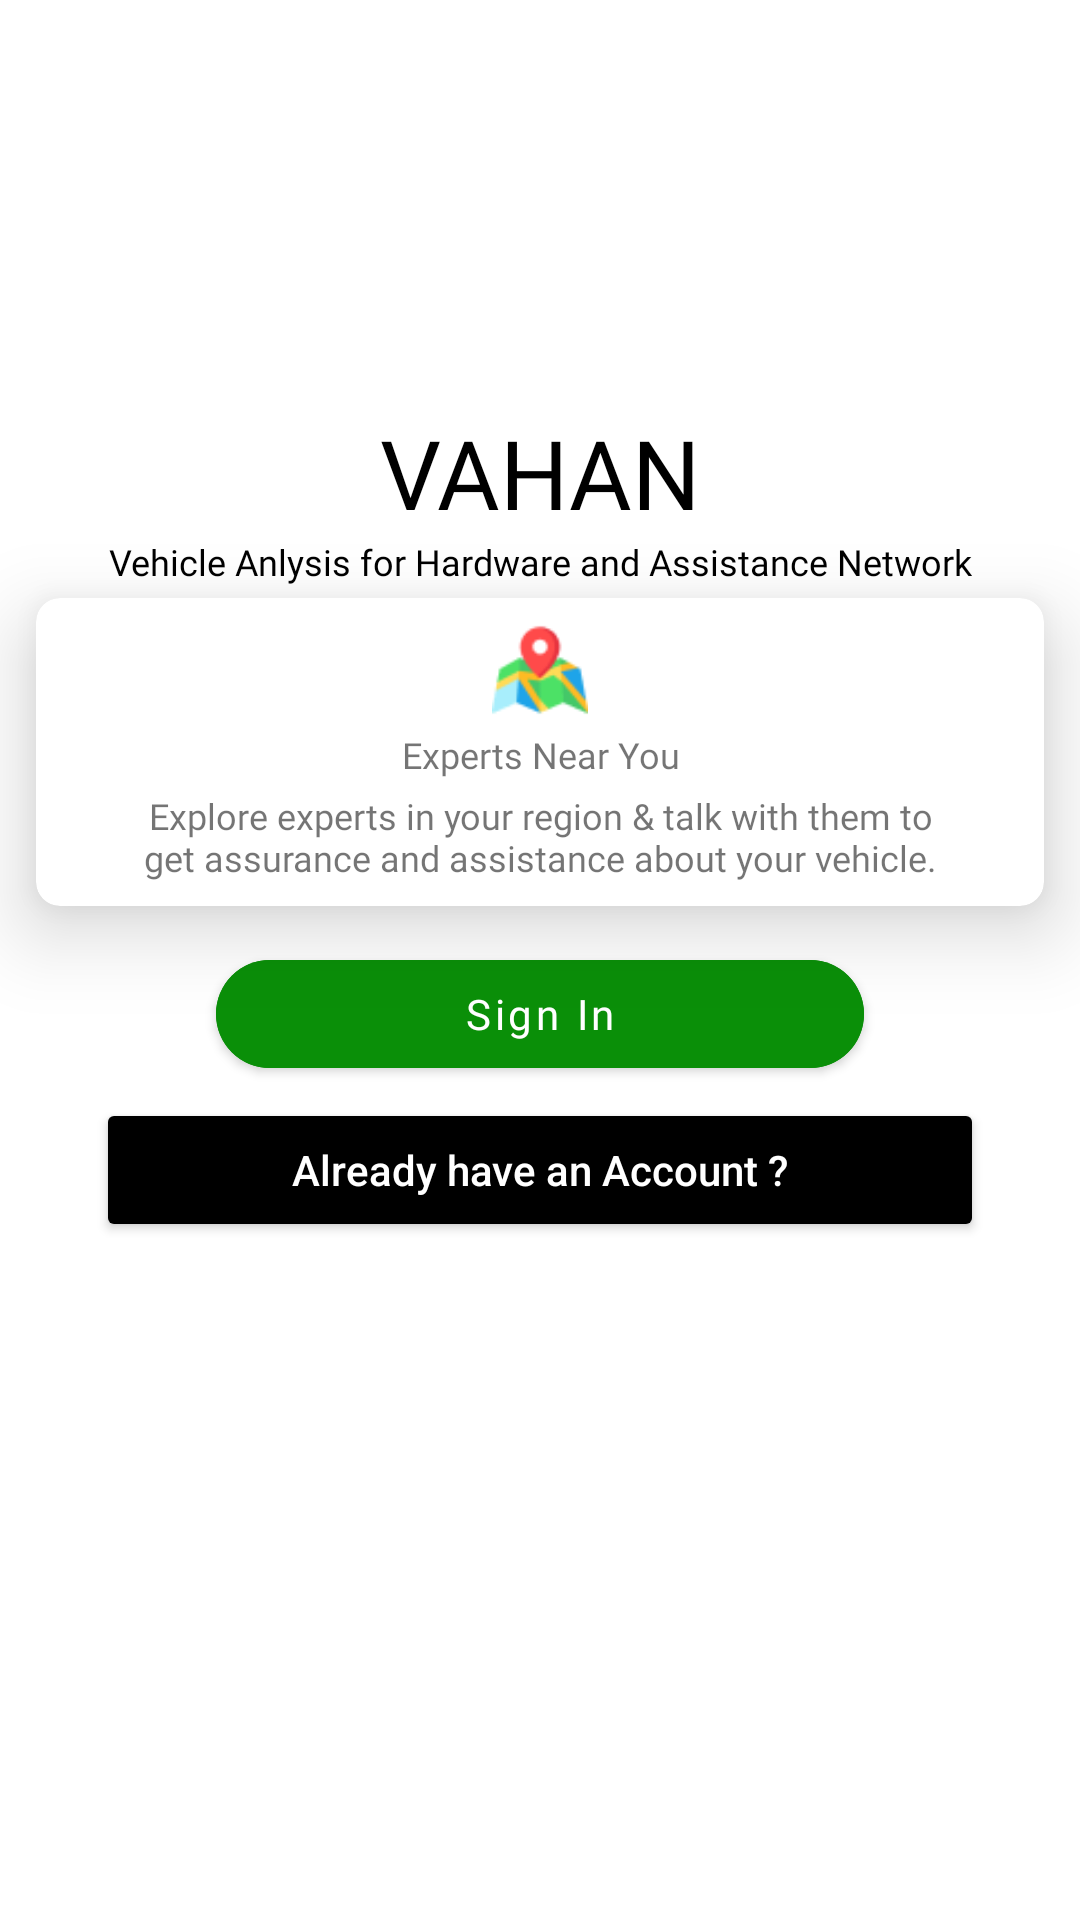

Icons on this 1080x1920 Android screen, each with its box as (x1, y1, x2, y2):
map: (492, 626, 588, 714)
